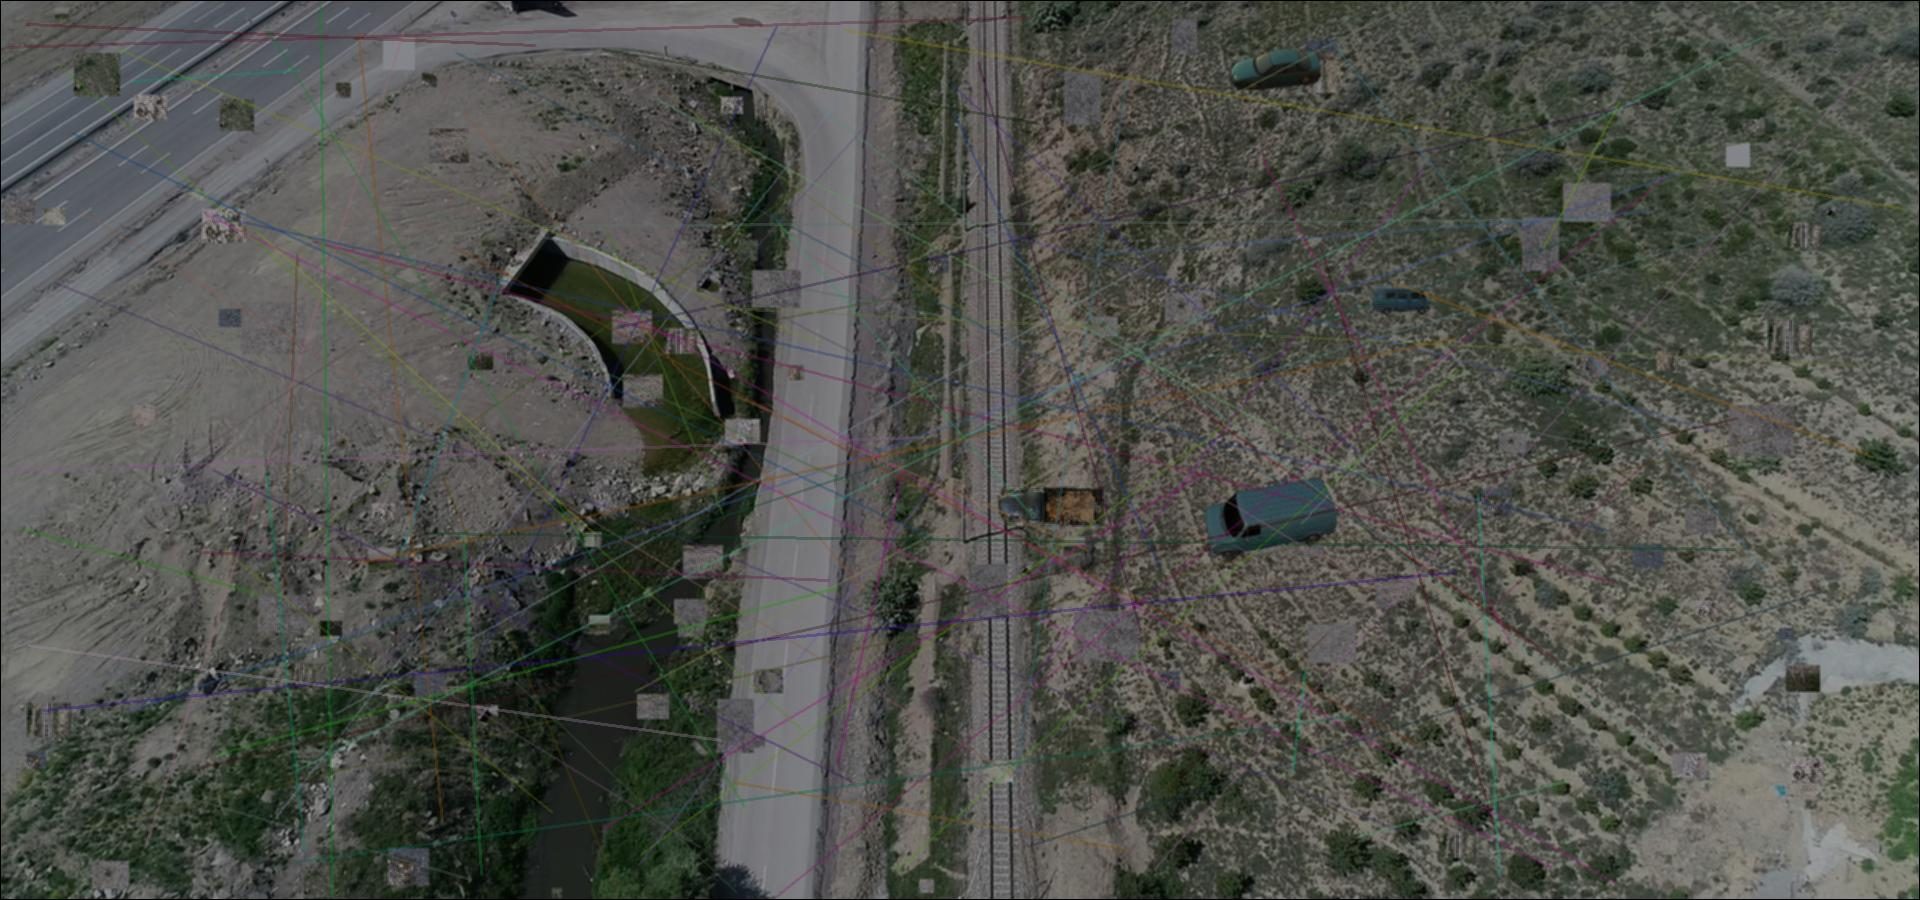arac: (1202, 476, 1338, 563), (997, 479, 1107, 533), (1228, 50, 1322, 91), (1371, 284, 1430, 316)
